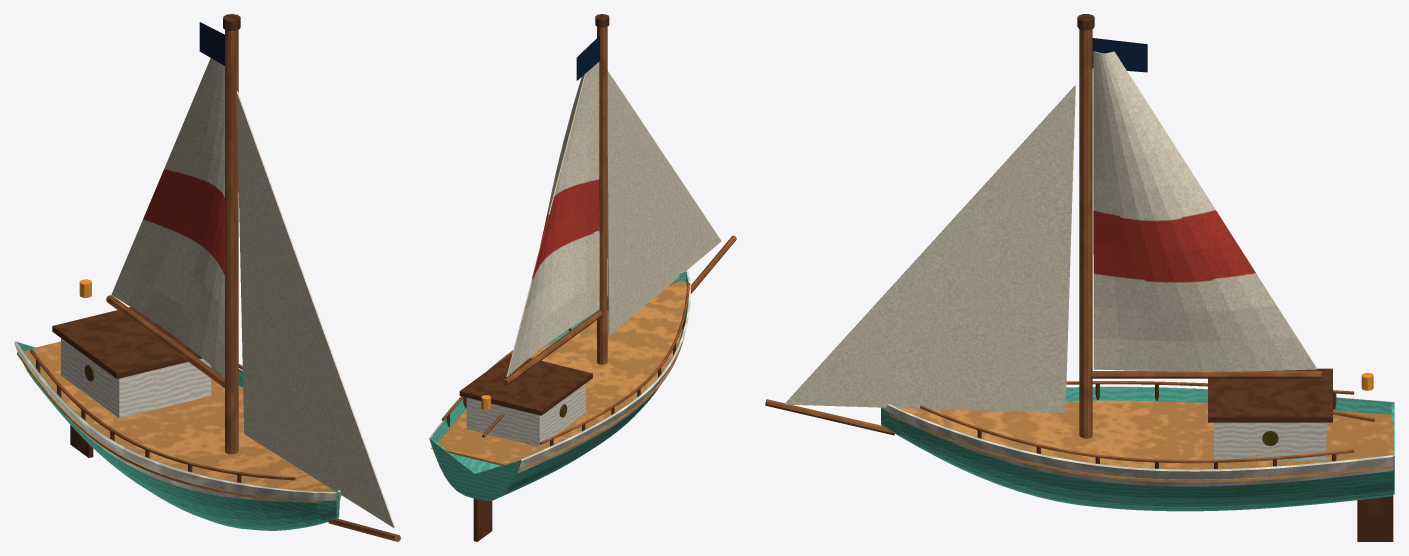
Rendered from tidebreakers_coastal_sloop.obj.
3 views of the same model, side by side, from view 1: azimuth 30°, elevation 25°; view 2: azimuth 150°, elevation 25°; view 3: azimuth 270°, elevation 25° (orthographic). The views are drawn at different scales.
Parts seen in each view (by area): view 1: tidebreakers_coastal_sloop_mesh; view 2: tidebreakers_coastal_sloop_mesh; view 3: tidebreakers_coastal_sloop_mesh.
Part boxes in pixels (x1,y1,x2,y2): tidebreakers_coastal_sloop_mesh: (14, 14, 400, 541); tidebreakers_coastal_sloop_mesh: (429, 14, 736, 541); tidebreakers_coastal_sloop_mesh: (765, 14, 1394, 541).
Size of the model in its own units: 3.87 by 11.28 by 12.3.
1 material, 1 textured.
